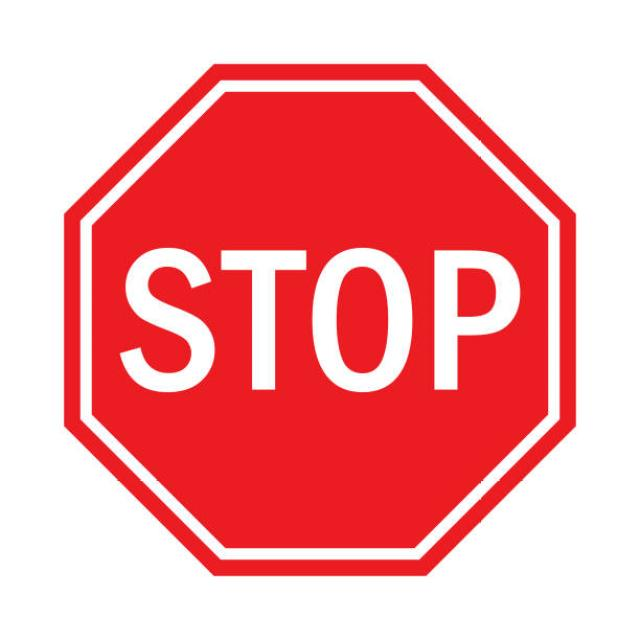Traffic sign: (43, 34, 618, 614)
